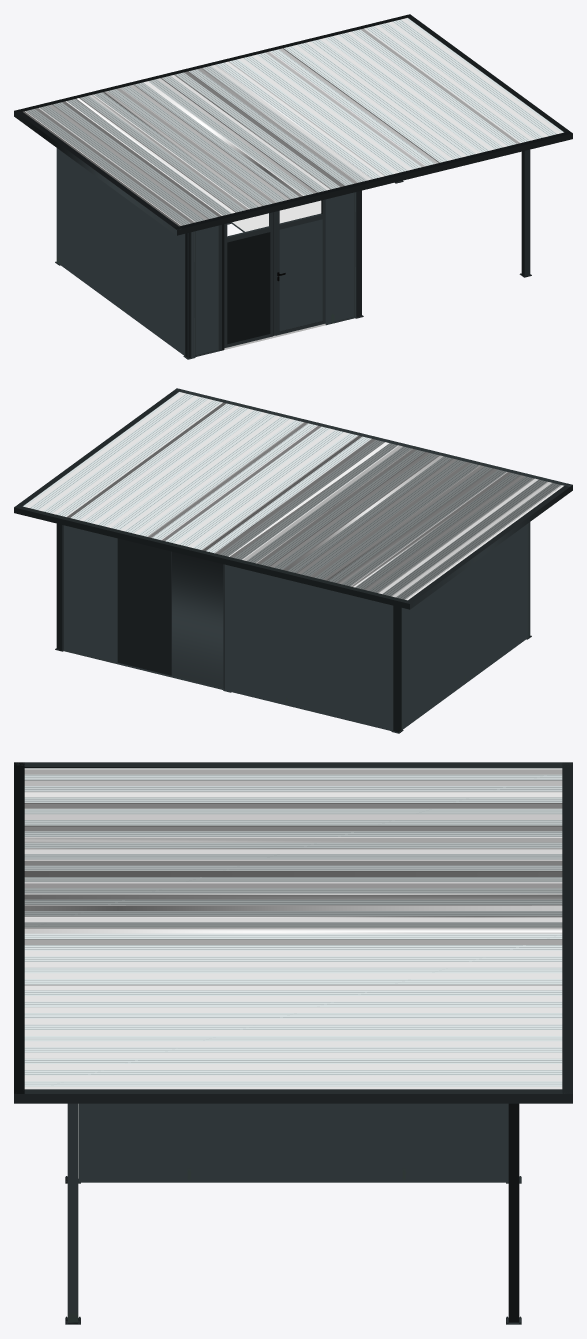
3 views of the same model, one above another, from view 1: azimuth 30°, elevation 25°; view 2: azimuth 150°, elevation 25°; view 3: azimuth 270°, elevation 25° (orthographic). The views are drawn at different scales.
Visible parts, largest first — view 1: priximbattable_net_abris_de_jardin_640009_pool_house_azalee_, folha, folha_2, porta_avec_hublot; view 2: priximbattable_net_abris_de_jardin_640009_pool_house_azalee_; view 3: priximbattable_net_abris_de_jardin_640009_pool_house_azalee_.
Part boxes in pixels (bbox=[...]): priximbattable_net_abris_de_jardin_640009_pool_house_azalee_: bbox=[14, 14, 572, 359]; folha: bbox=[224, 211, 276, 348]; folha_2: bbox=[276, 199, 325, 335]; porta_avec_hublot: bbox=[218, 198, 331, 351]; priximbattable_net_abris_de_jardin_640009_pool_house_azalee_: bbox=[14, 388, 572, 733]; priximbattable_net_abris_de_jardin_640009_pool_house_azalee_: bbox=[14, 762, 572, 1324].
Size of the model in its own units: 730 by 259 by 520.
Materials: 1 (1 with a texture image).
